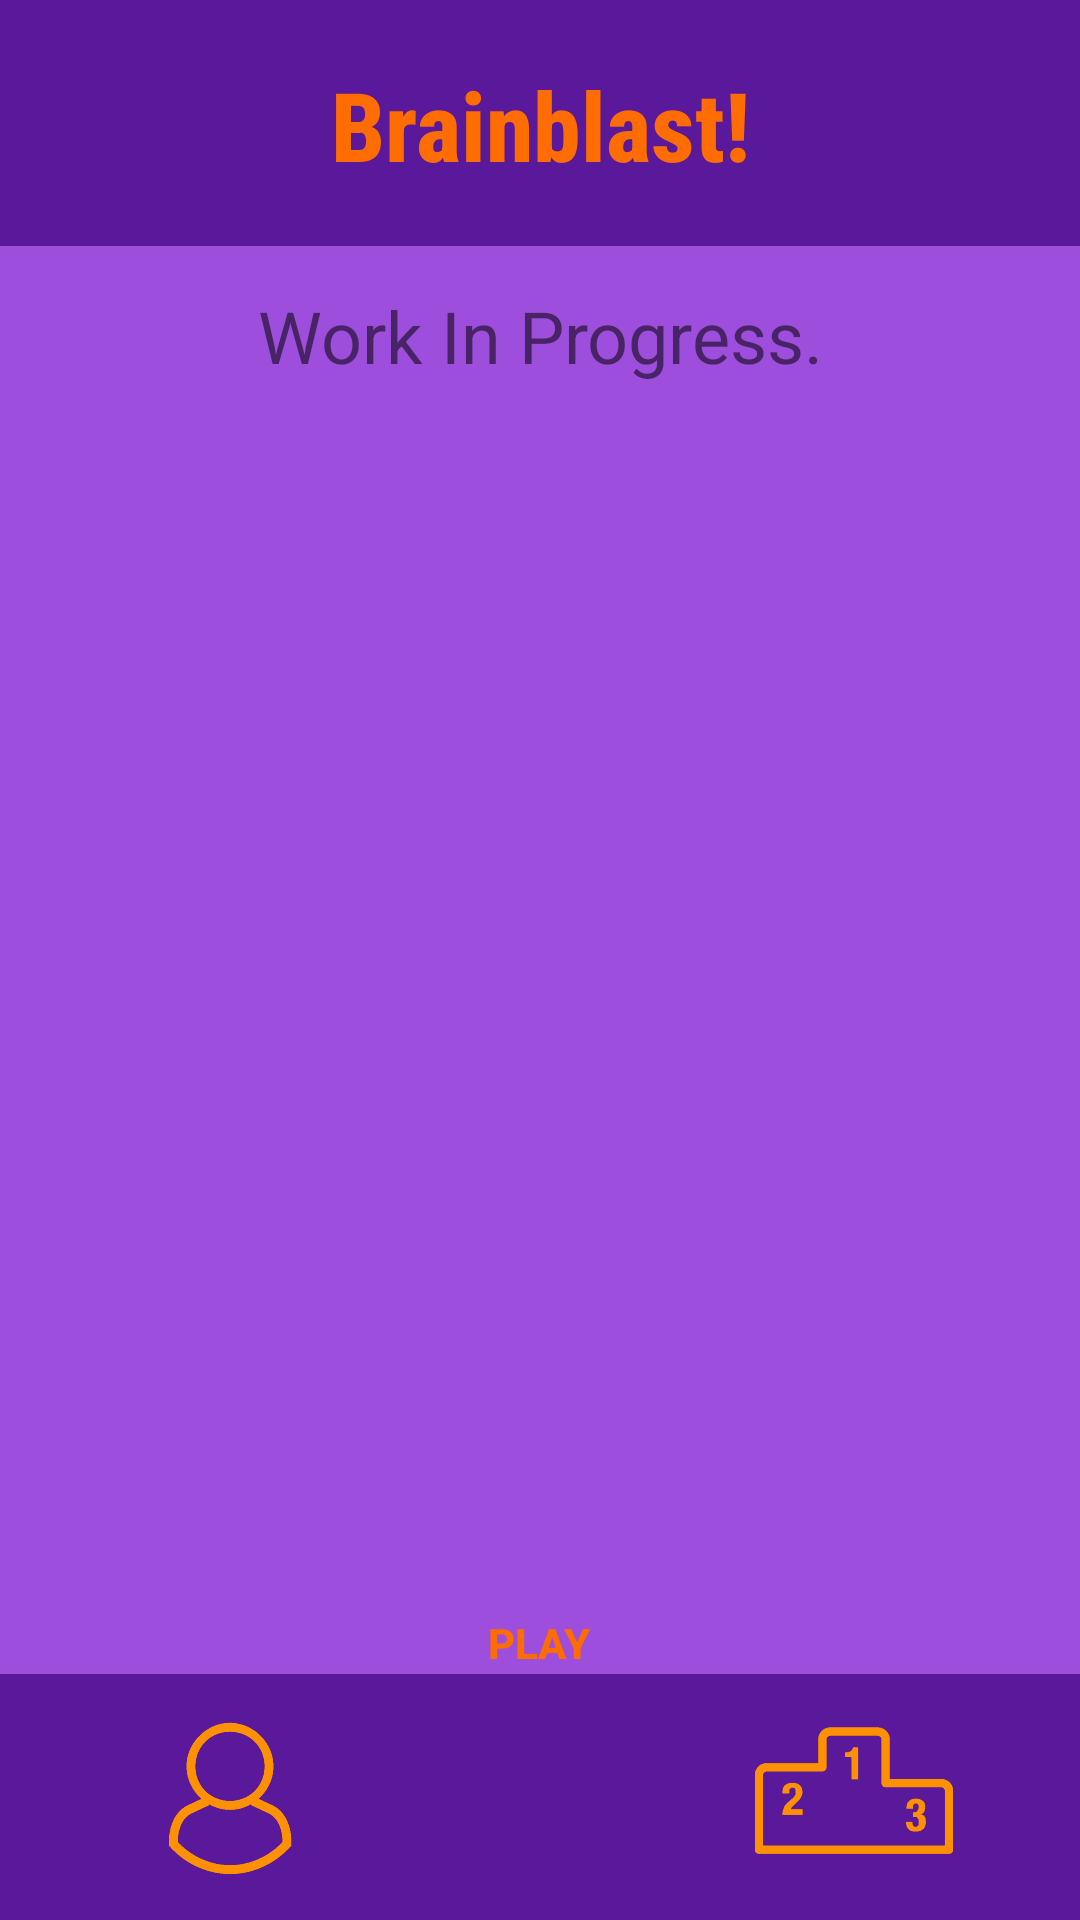

Where icons sit on this 1080w x 1920h app screen, as rect(x1, y1, x2, y2):
Leaderboard redirect: rect(755, 1727, 953, 1854)
